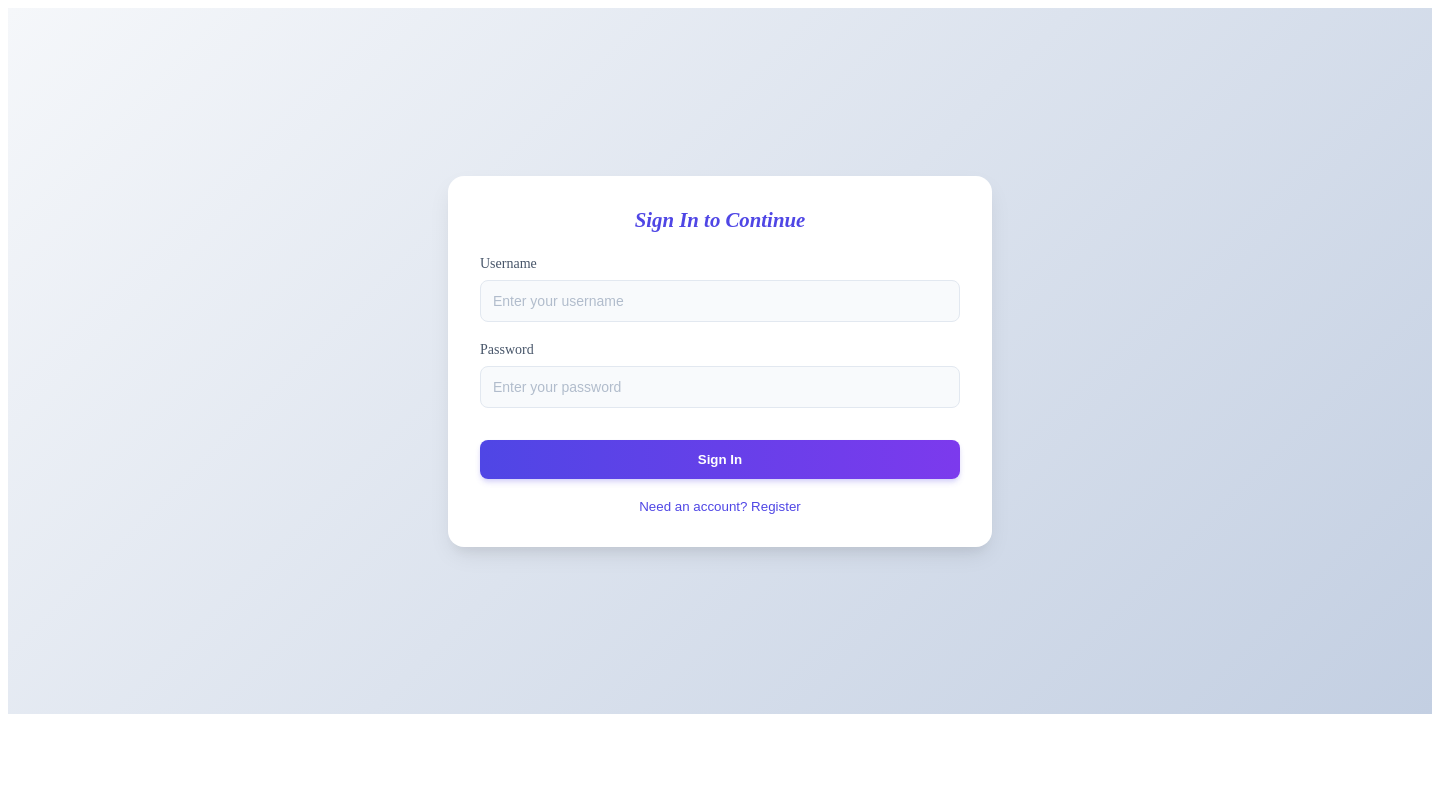
Test case: AuthForm Component › switches to register mode when toggle is clicked
The image size is (1440, 810).
Click the button "Need an account? Register".
click(720, 506)  # box [639,498,801,514]
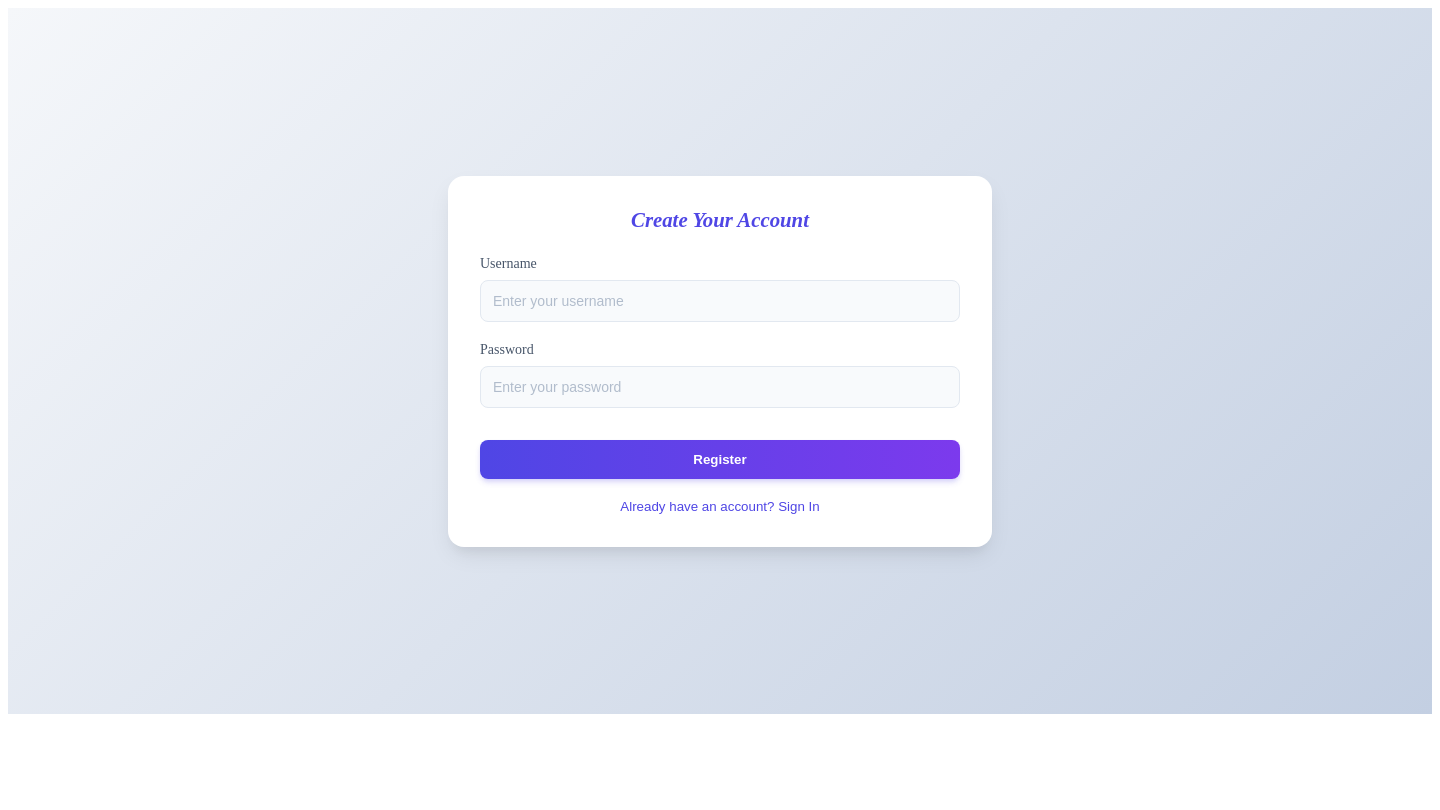
Check: the heading "Create Your Account" is shown, box [631,208,809,230]
Check: the button "Register" is shown, box [480,440,960,478]
